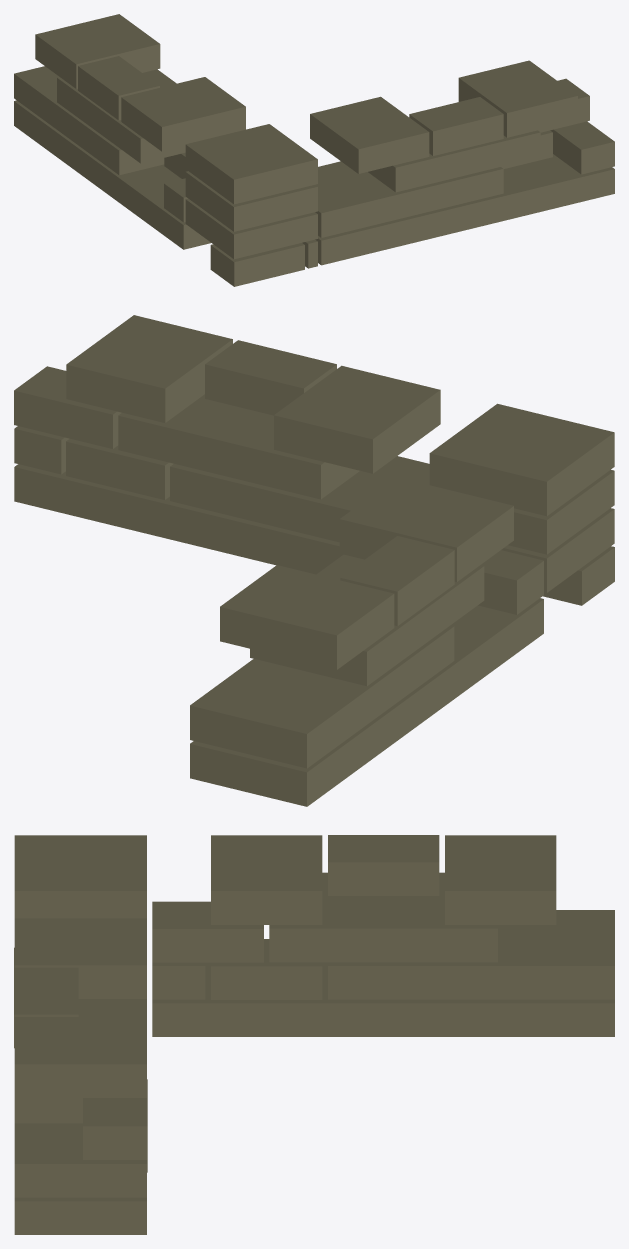
File: SM_PretilEsquina_v0_Recto_e1_Danado_LOD1.fbx
3 renders of one model, top to bottom at view 1: azimuth 30°, elevation 25°; view 2: azimuth 150°, elevation 25°; view 3: azimuth 270°, elevation 25°, orthographic. The views are drawn at different scales.
Visible parts, largest first — view 1: SM_pretil_azotea_v21_LOD1; view 2: SM_pretil_azotea_v21_LOD1; view 3: SM_pretil_azotea_v21_LOD1.
Part boxes in pixels (<box>): SM_pretil_azotea_v21_LOD1: <box>14,14,614,286</box>; SM_pretil_azotea_v21_LOD1: <box>14,315,614,806</box>; SM_pretil_azotea_v21_LOD1: <box>14,835,614,1234</box>.
Size of the model in its own units: 4.37 by 1.17 by 4.37.
